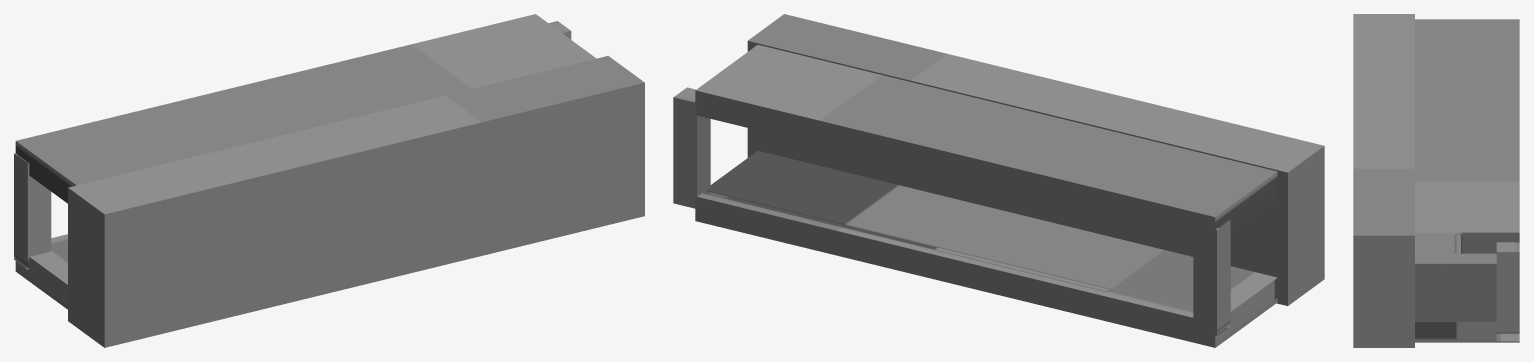
3 renders of one model, left to right at view 1: azimuth 30°, elevation 25°; view 2: azimuth 150°, elevation 25°; view 3: azimuth 270°, elevation 25°, orthographic. The views are drawn at different scales.
Size of the model in its own units: 0.7521 by 0.1739 by 0.2337.
